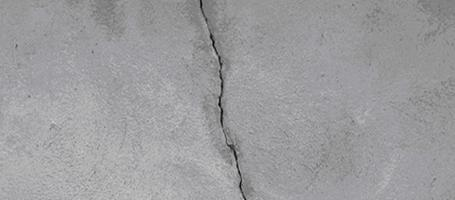crack: (200, 0, 248, 200)
